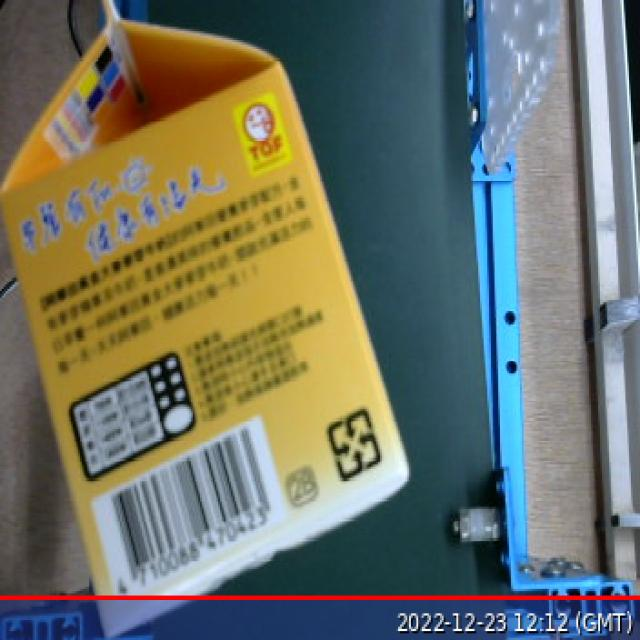non_white_jug: (0, 0, 440, 640)
